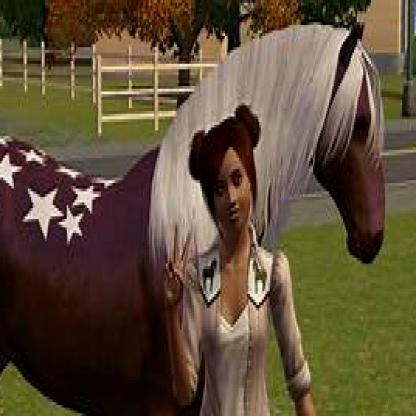horse: (0, 17, 399, 413)
